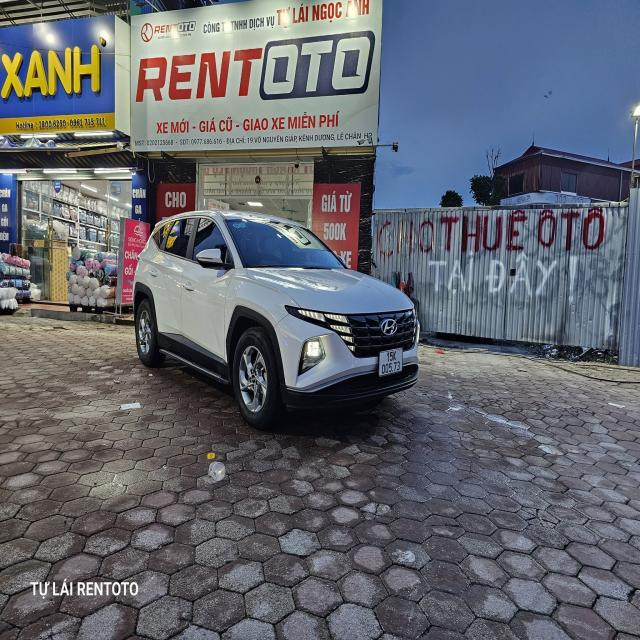car: (123, 209, 432, 435)
plate: (373, 342, 410, 379)
